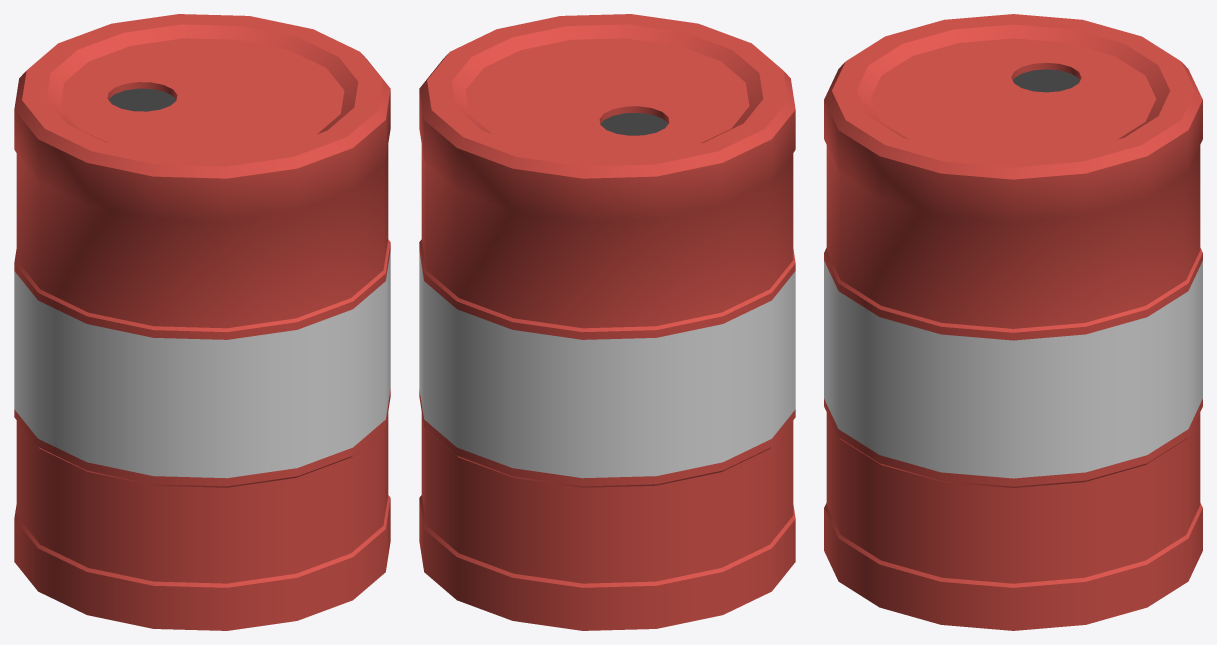
The model's file is barrel_explosive.fbx.
The picture shows the model from 3 angles, left to right: view 1: azimuth 30°, elevation 25°; view 2: azimuth 150°, elevation 25°; view 3: azimuth 270°, elevation 25°; orthographic projection.
Parts seen in each view (by area): view 1: barrel_explosive; view 2: barrel_explosive; view 3: barrel_explosive.
Part boxes in pixels (<box>): barrel_explosive: <box>14,14,390,630</box>; barrel_explosive: <box>419,14,795,630</box>; barrel_explosive: <box>824,14,1202,630</box>.
Size of the model in its own units: 90.17 by 121 by 90.17.
